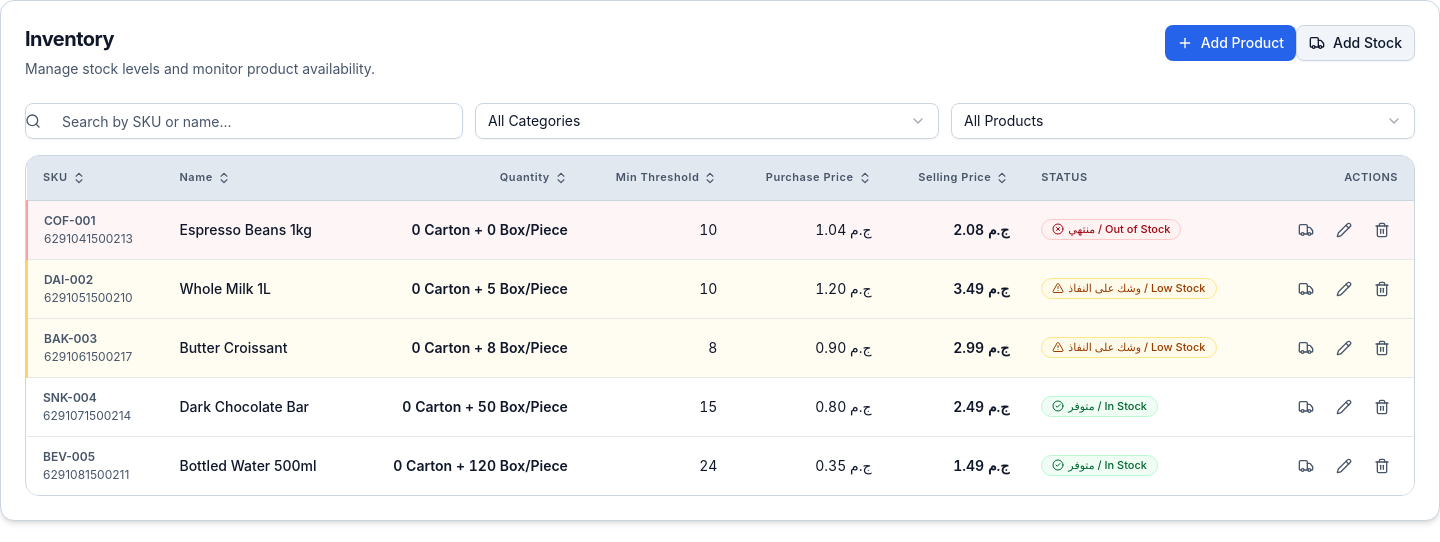
Scenario: InventoryTable › filters to out of stock products via the status dropdown
This screenshot has width=1440, height=542.
Click the dropdown named "filter by stock".
click(1004, 120)  # box top-left (951, 103), bottom-right (1415, 139)
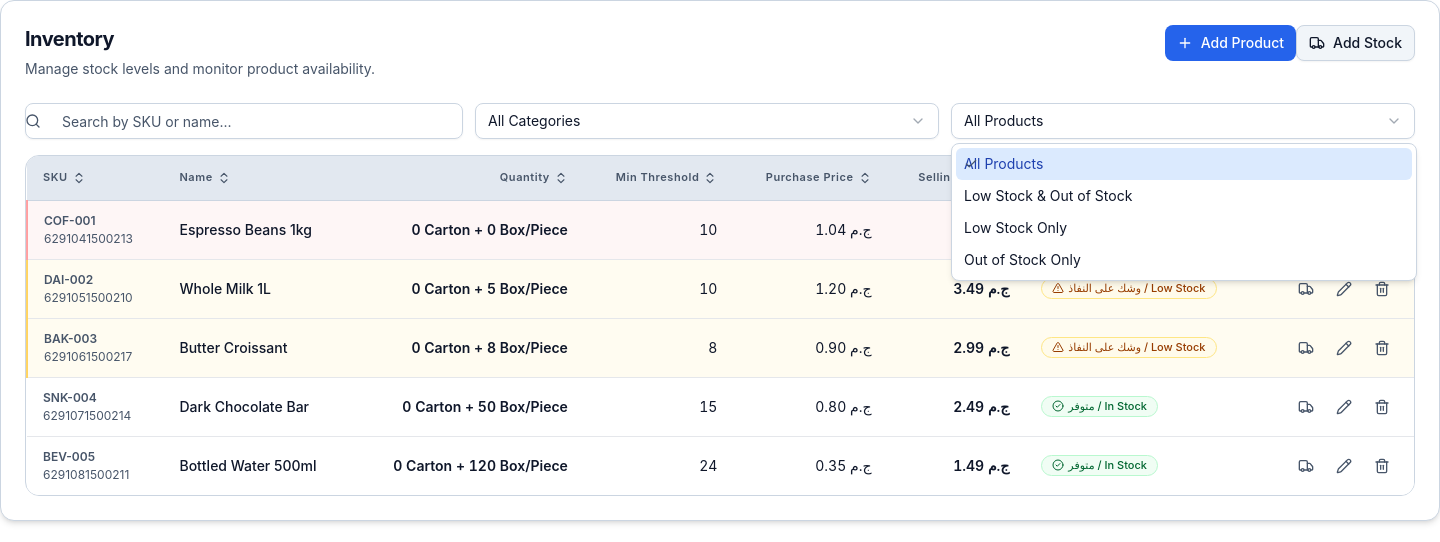
Click the option "Out of Stock Only".
click(1022, 260)  # box top-left (964, 251), bottom-right (1081, 268)
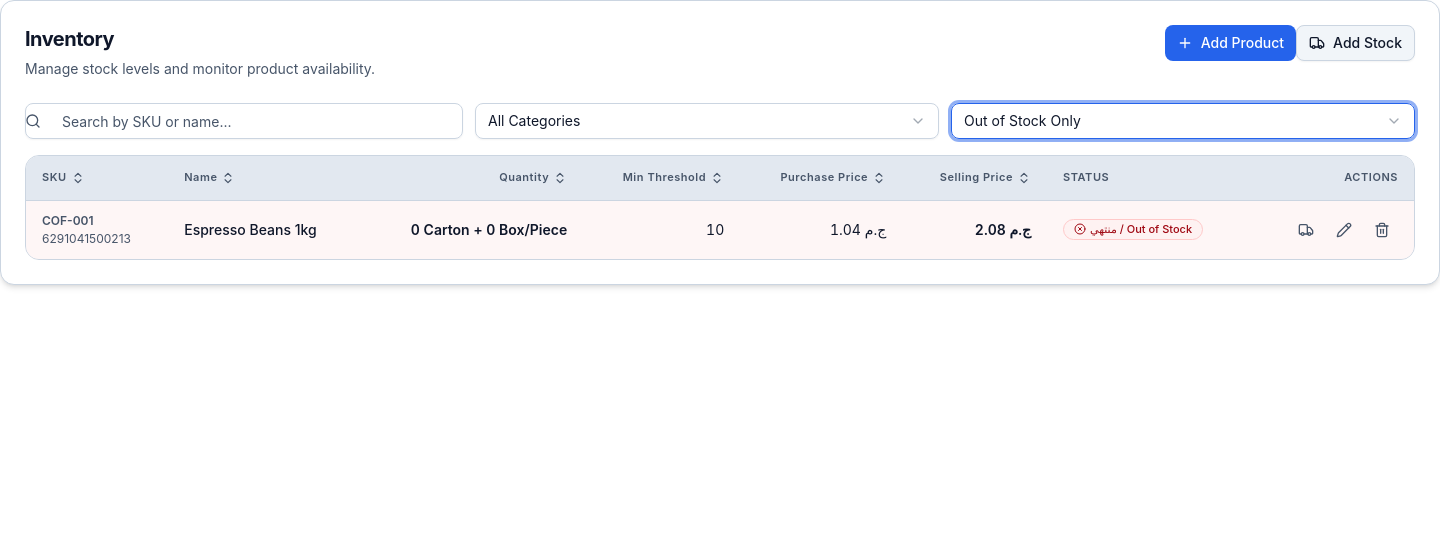
Expected: the text "Espresso Beans 1kg" is shown, top-left (184, 220), bottom-right (317, 240)
Expected: the text "Whole Milk 1L" is gone
Expected: the text "Dark Chocolate Bar" is gone
